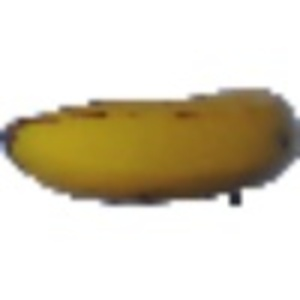banana: (3, 81, 297, 206)
